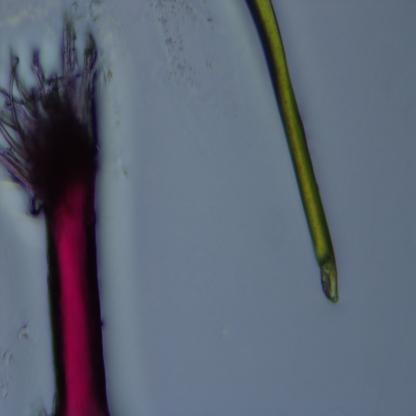Background material: (154, 1, 206, 95), (85, 0, 106, 25), (17, 323, 33, 342), (118, 159, 129, 178)
Microfibre: (0, 27, 112, 416), (243, 0, 340, 306)
